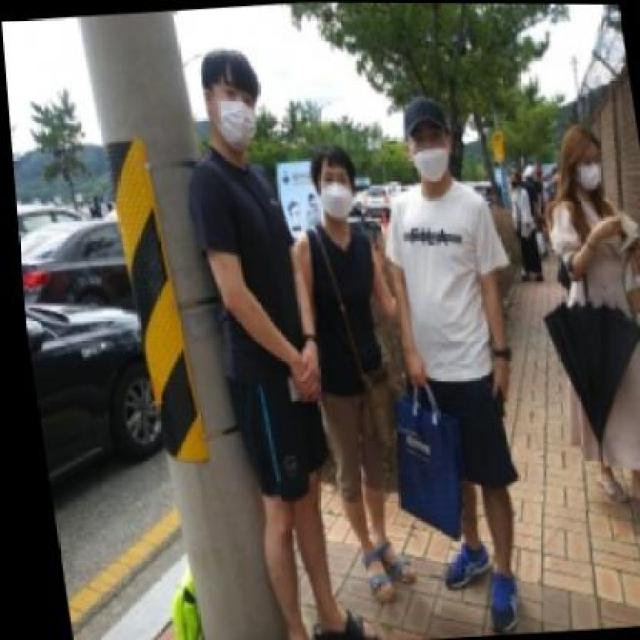hat: (397, 92, 452, 143)
